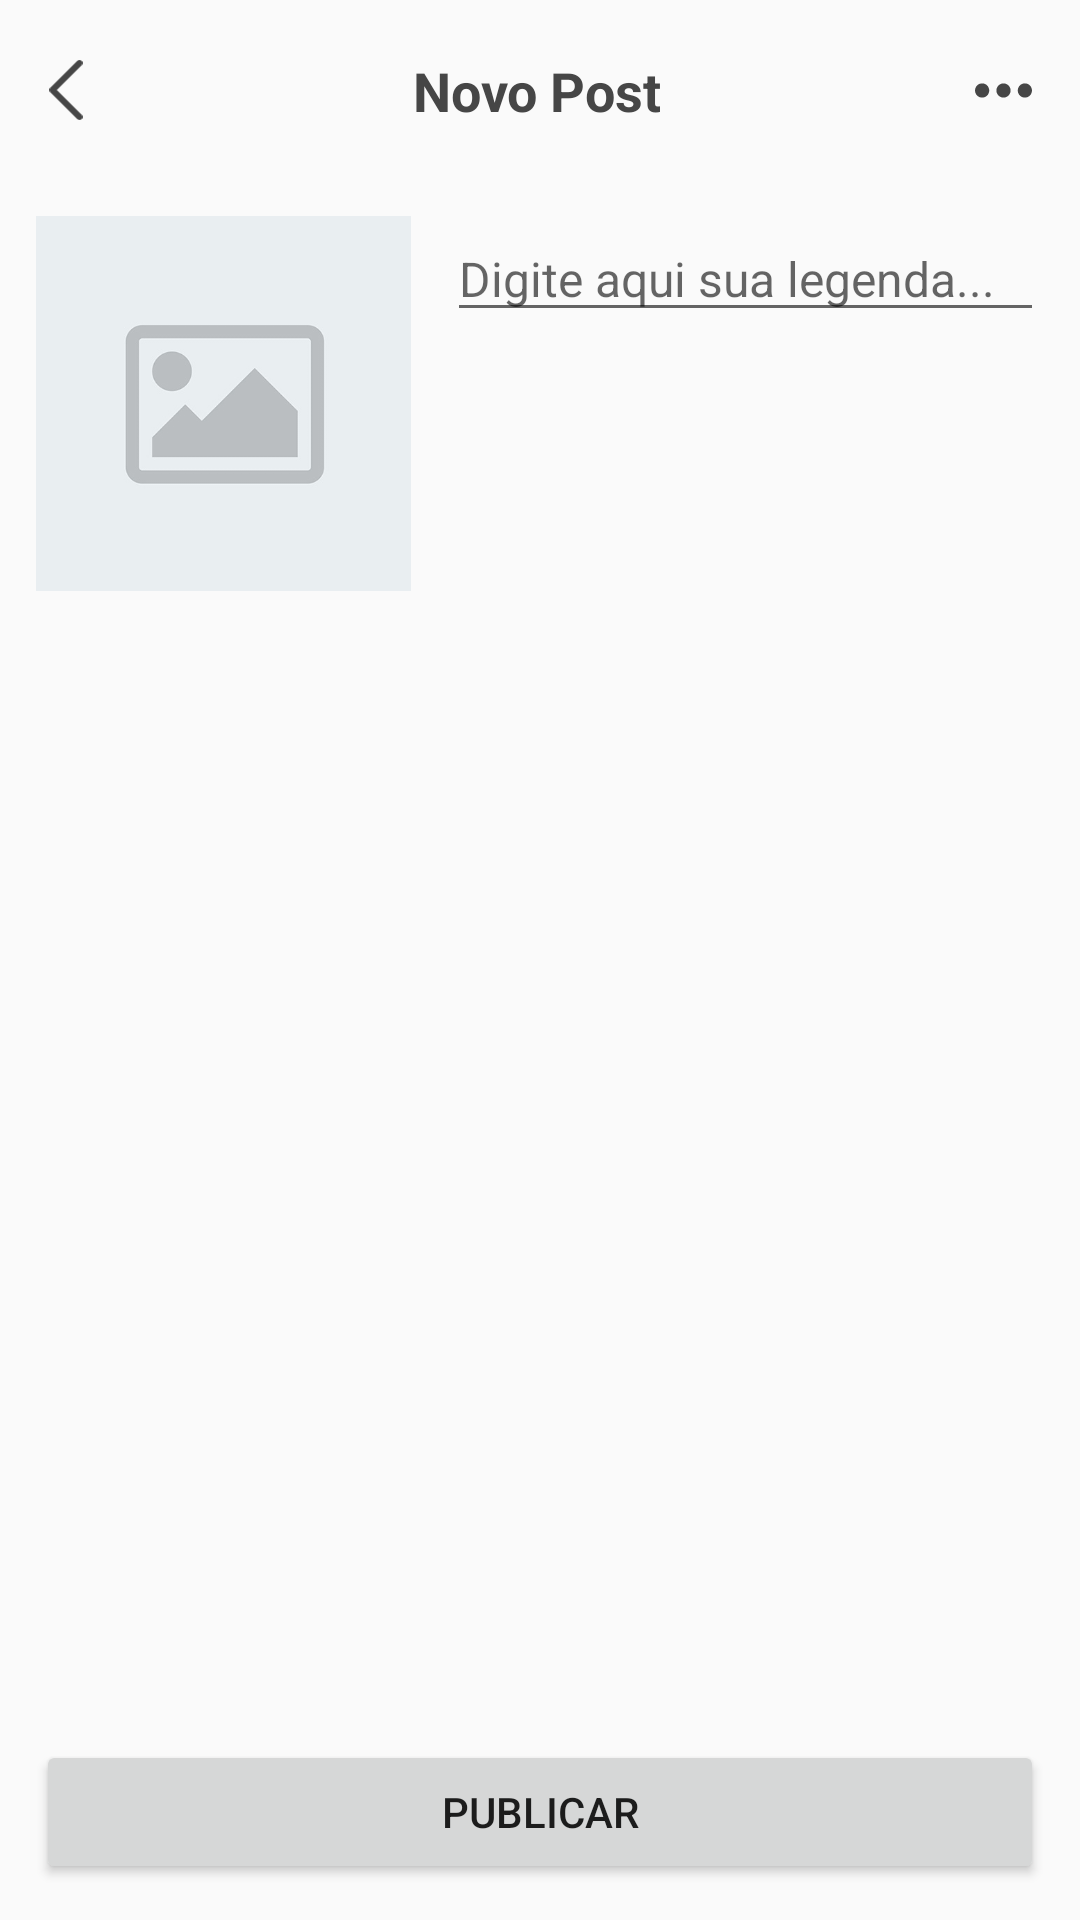

Screen size 1080px×1920px. Icon name, then its center in pixels as (x=x, y=y):
back: (x=66, y=90)
three dots menu: (x=1003, y=90)
